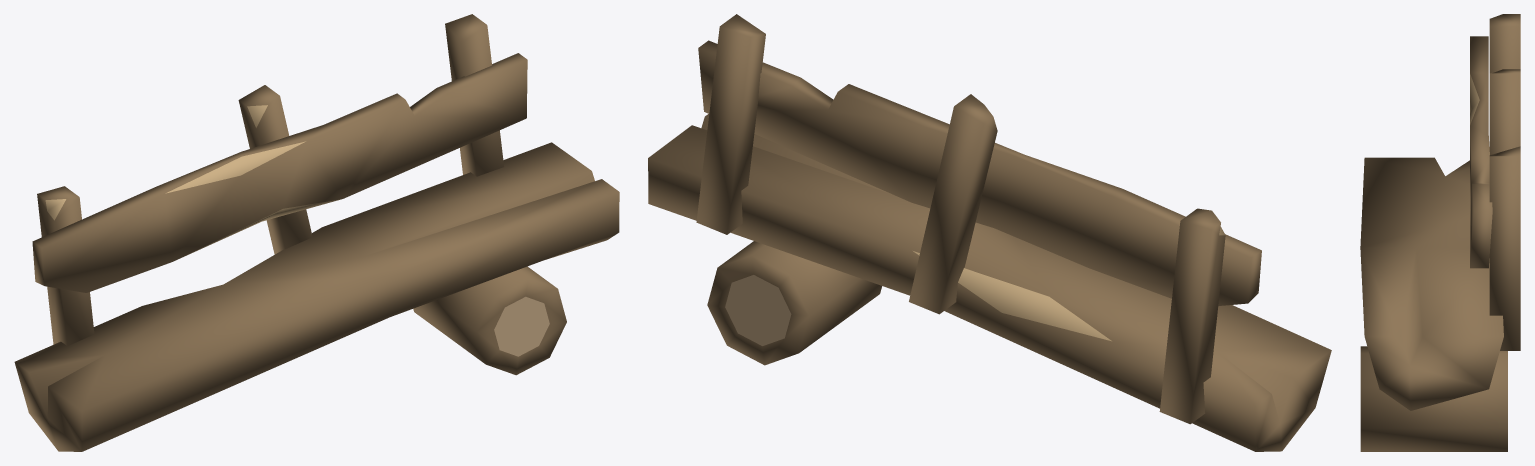
The model's file is rpgpp_av_bench_wood_01a.gltf.
3 views of the same model, side by side, from view 1: azimuth 30°, elevation 25°; view 2: azimuth 150°, elevation 25°; view 3: azimuth 270°, elevation 25° (orthographic). The views are drawn at different scales.
Parts seen in each view (by area): view 1: rpgpp_av_bench_wood_01a; view 2: rpgpp_av_bench_wood_01a; view 3: rpgpp_av_bench_wood_01a.
Part boxes in pixels (bbox=[...]): rpgpp_av_bench_wood_01a: bbox=[14, 14, 619, 451]; rpgpp_av_bench_wood_01a: bbox=[648, 14, 1331, 451]; rpgpp_av_bench_wood_01a: bbox=[1360, 14, 1520, 451].
Bounding box in the file's own units: 0.0176 × 0.00912 × 0.00434.
Materials: 1 (1 with a texture image).
